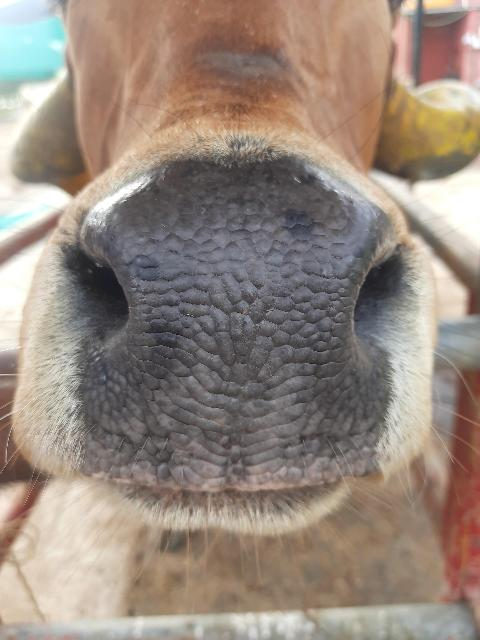Muzzle: (89, 199, 385, 483)
